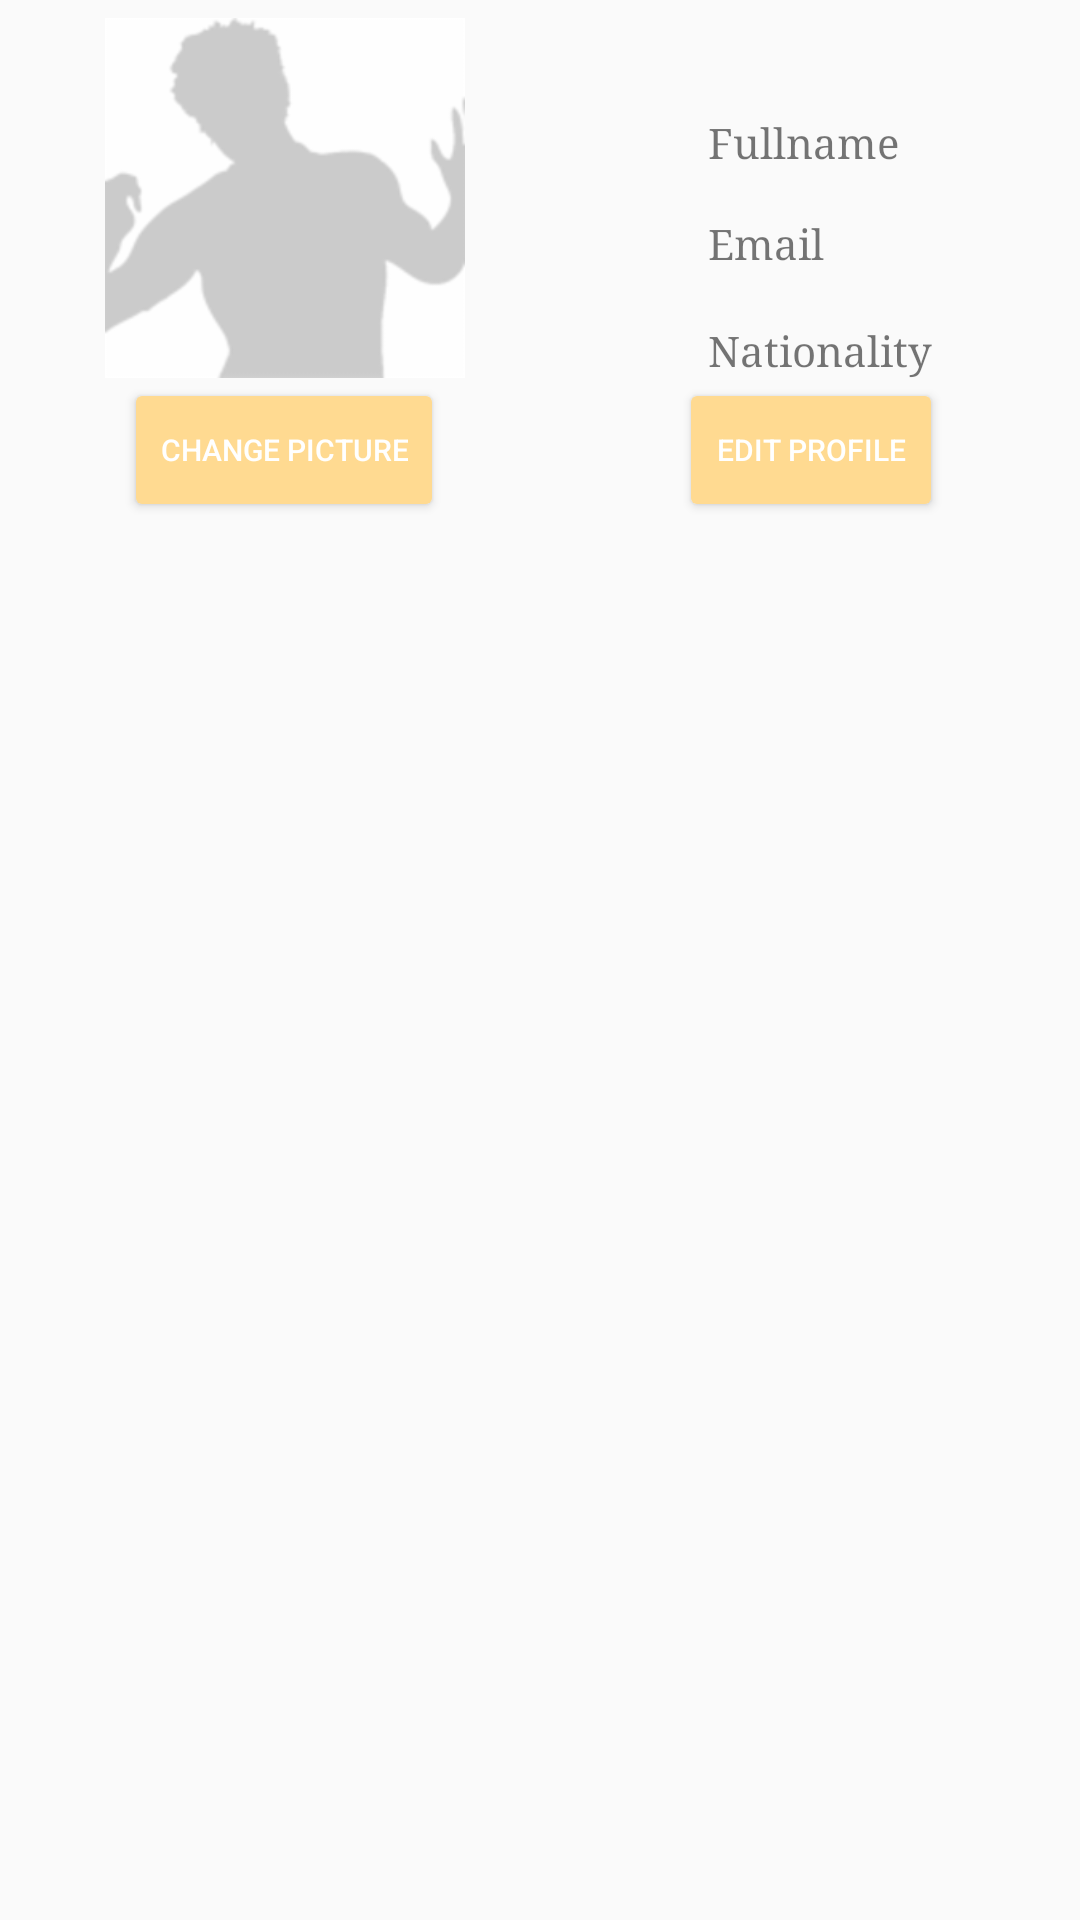

Icon click points for this 1080px x 1920px phone screenshot, format (x=x, y=y):
no ava: (x=285, y=199)
